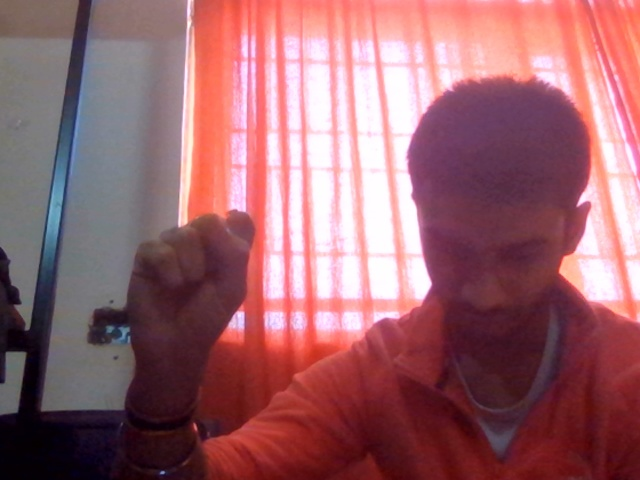S: (113, 185, 275, 411)
